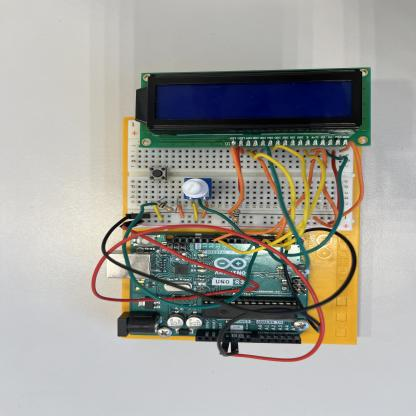5V: (138, 224, 326, 361), (92, 234, 263, 303)
ARDUINO: (127, 232, 308, 338)
Breadboard: (126, 121, 356, 231)
Button: (149, 167, 166, 180)
GND: (100, 214, 254, 312), (282, 228, 360, 310)
LCD: (136, 68, 371, 147)
Long wire: (199, 149, 348, 257), (122, 202, 259, 310), (214, 148, 324, 256), (213, 149, 321, 243), (260, 146, 310, 269), (259, 145, 309, 248), (246, 150, 296, 252), (253, 151, 289, 241), (311, 149, 341, 227), (341, 140, 364, 218), (227, 146, 245, 218), (329, 150, 342, 225), (236, 147, 244, 194), (239, 103, 240, 105)
Potentiometer: (182, 178, 212, 199)
Resistor: (158, 202, 174, 212), (232, 209, 240, 224)
Short wire: (152, 205, 163, 221), (192, 203, 198, 221), (201, 205, 210, 217), (177, 204, 184, 218)
